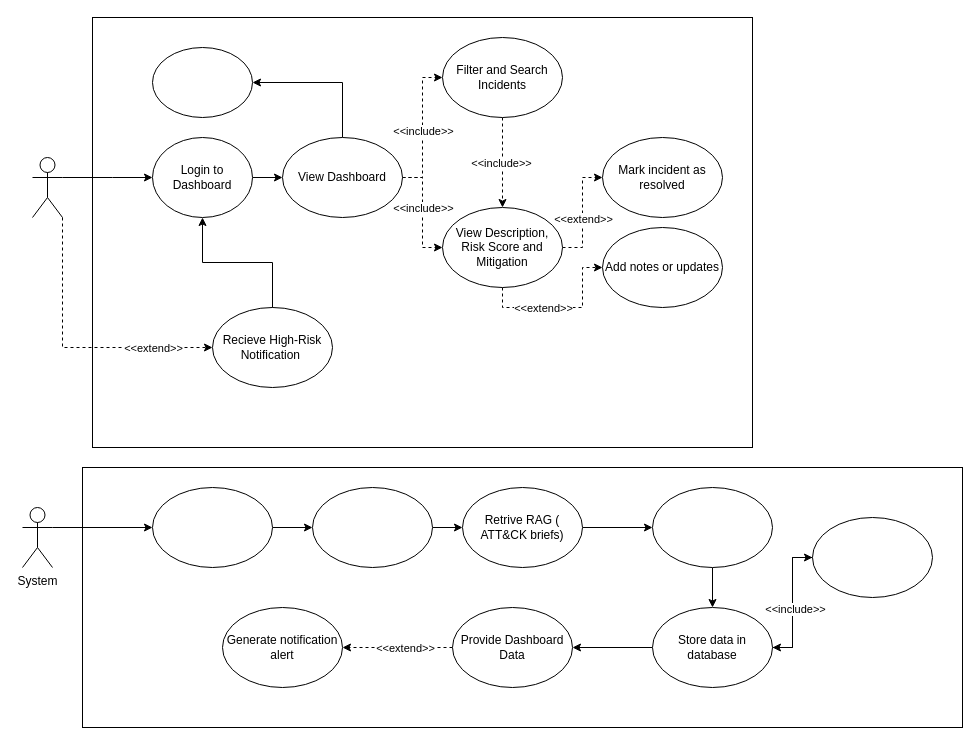
This 980x745 diagram has some shape labels left out. Here are the shapes that lost their labels. From the top down, the centre of each, then its label:
pixel 202 82: Logout / Auto Logout
pixel 47 187: User
pixel 212 527: Validate and sanitise logs
pixel 372 527: Parse Log Data
pixel 712 527: Process log via LLM
pixel 872 557: Backup and restore DB
